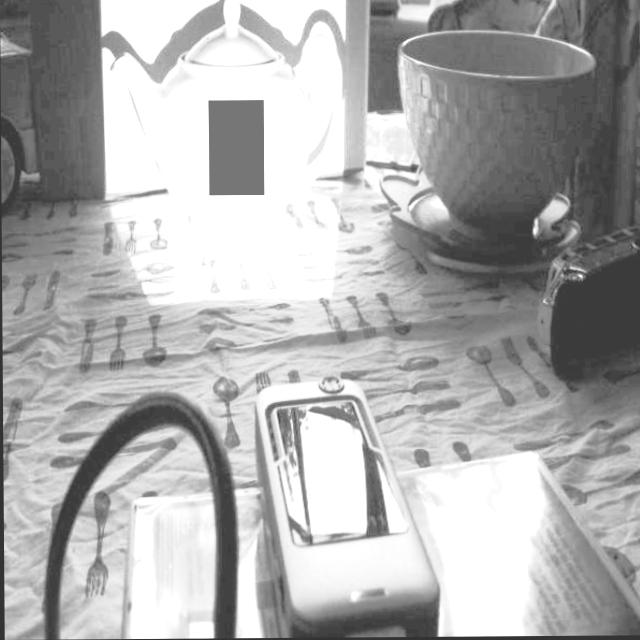qr_code: (208, 100, 264, 197)
